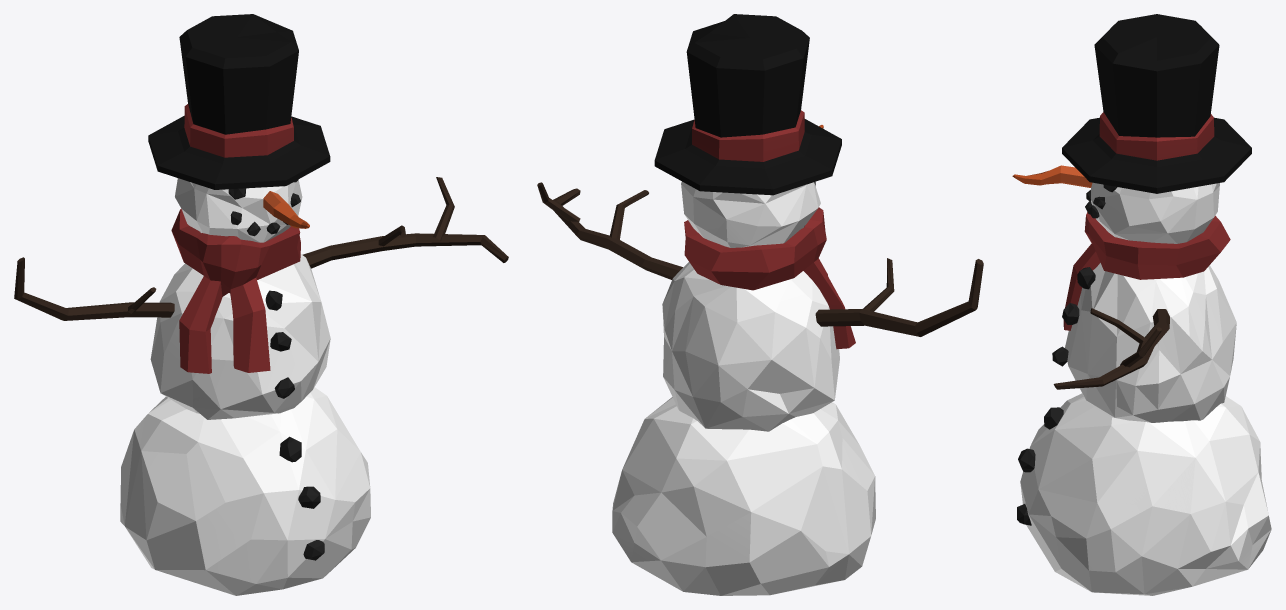
File: snowman.glb
3 renders of one model, left to right at view 1: azimuth 30°, elevation 25°; view 2: azimuth 150°, elevation 25°; view 3: azimuth 270°, elevation 25°, orthographic. The views are drawn at different scales.
Parts seen in each view (by area): view 1: snowman_a; view 2: snowman_a; view 3: snowman_a.
Part boxes in pixels (bbox=[...]): snowman_a: bbox=[14, 14, 508, 595]; snowman_a: bbox=[537, 14, 983, 595]; snowman_a: bbox=[1012, 14, 1271, 595].
Size of the model in its own units: 1.29 by 1.42 by 0.6455.
Materials: 1 (1 with a texture image).
